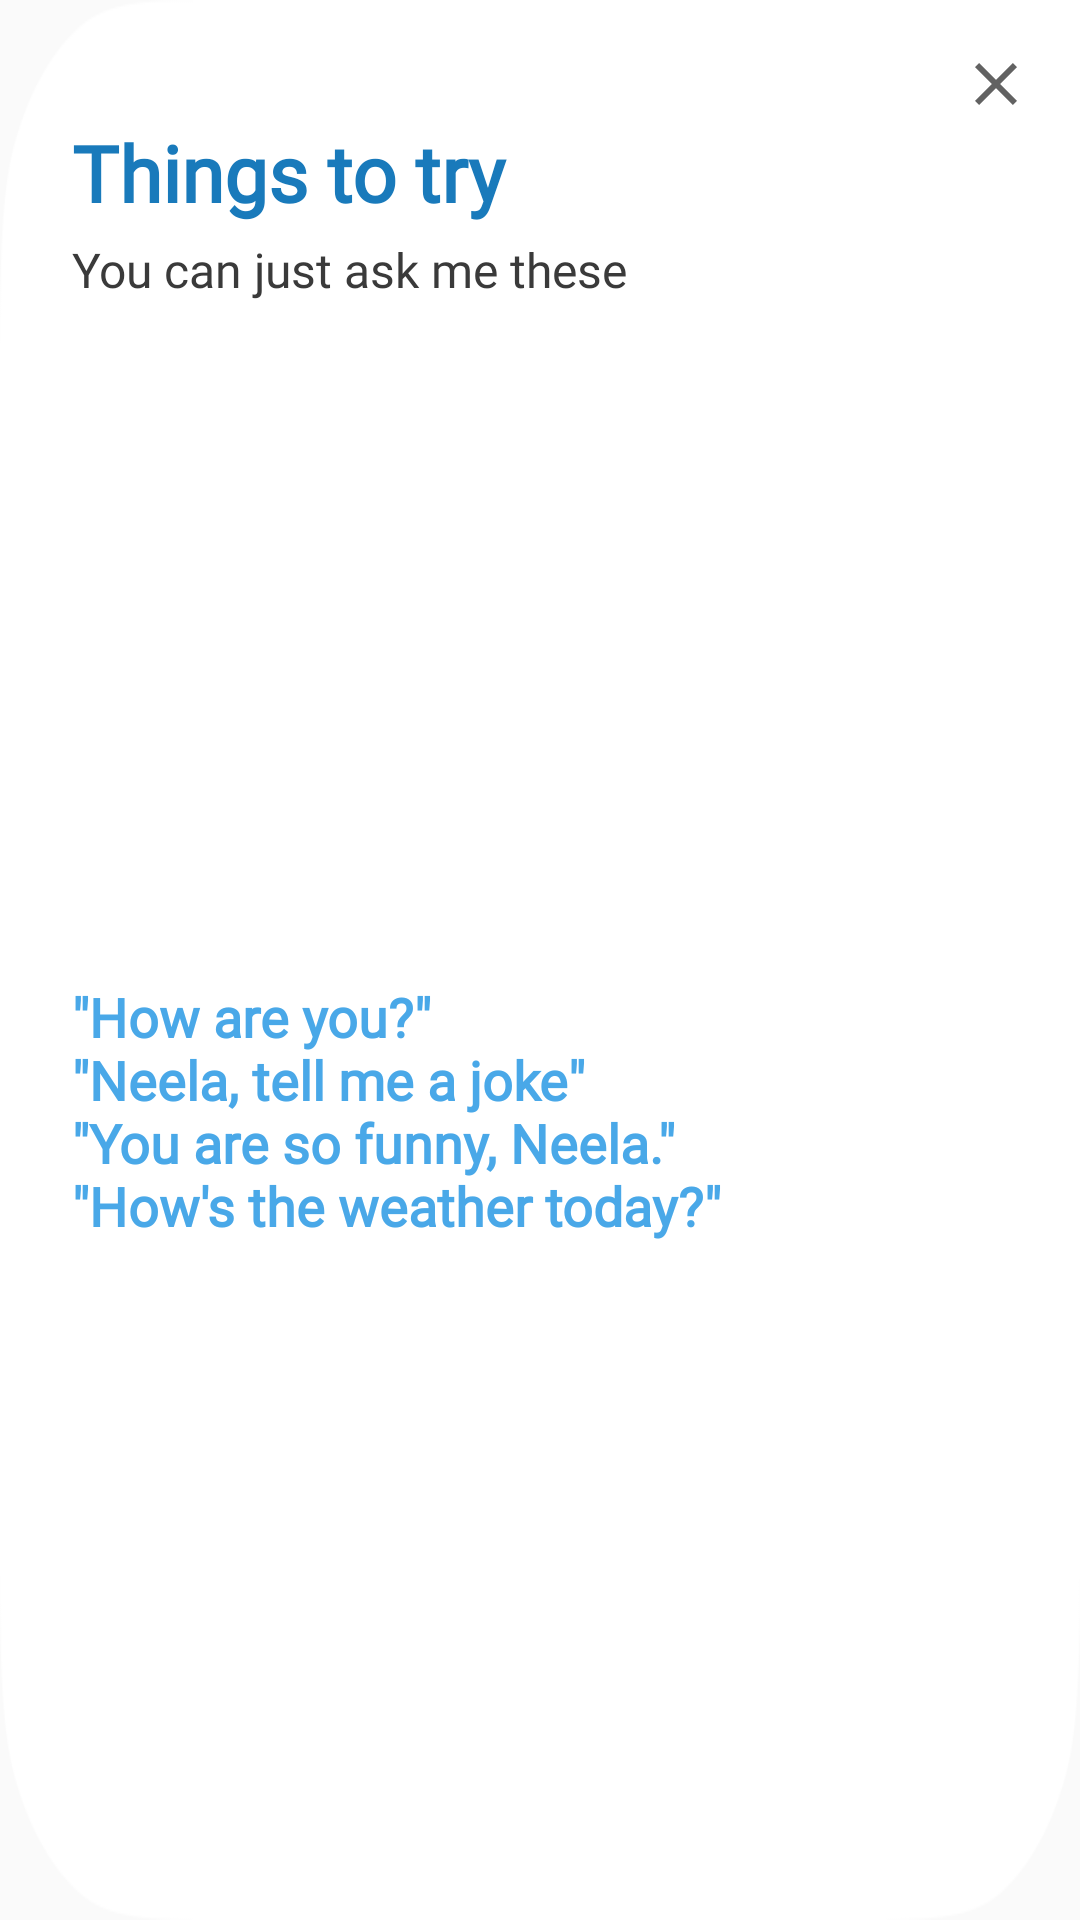

Named icons in this screenshot (1080w x 1920h) and their centers, point (x, y):
cross: point (996, 84)
